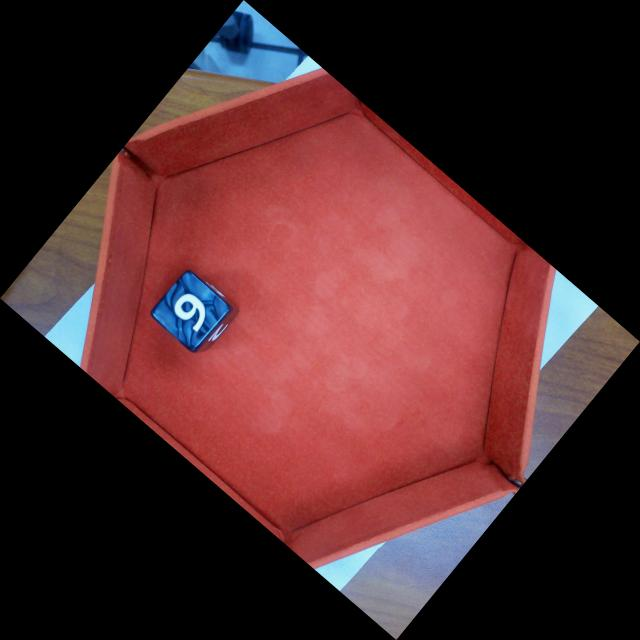dice: (147, 267, 235, 356)
